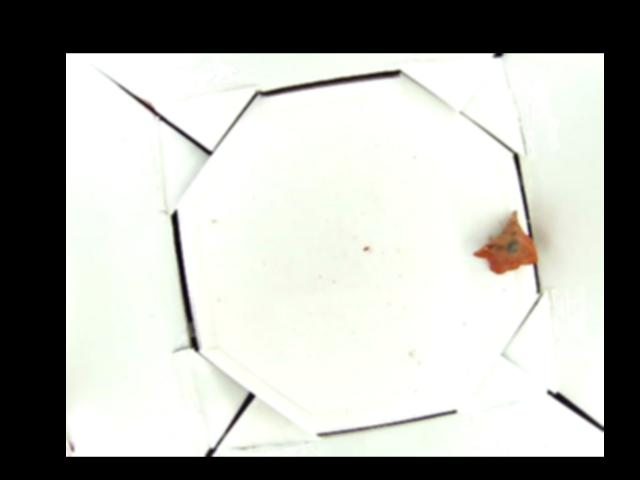Brisk: (474, 208, 539, 274)
